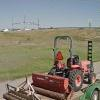Tractor: (24, 36, 100, 100)
